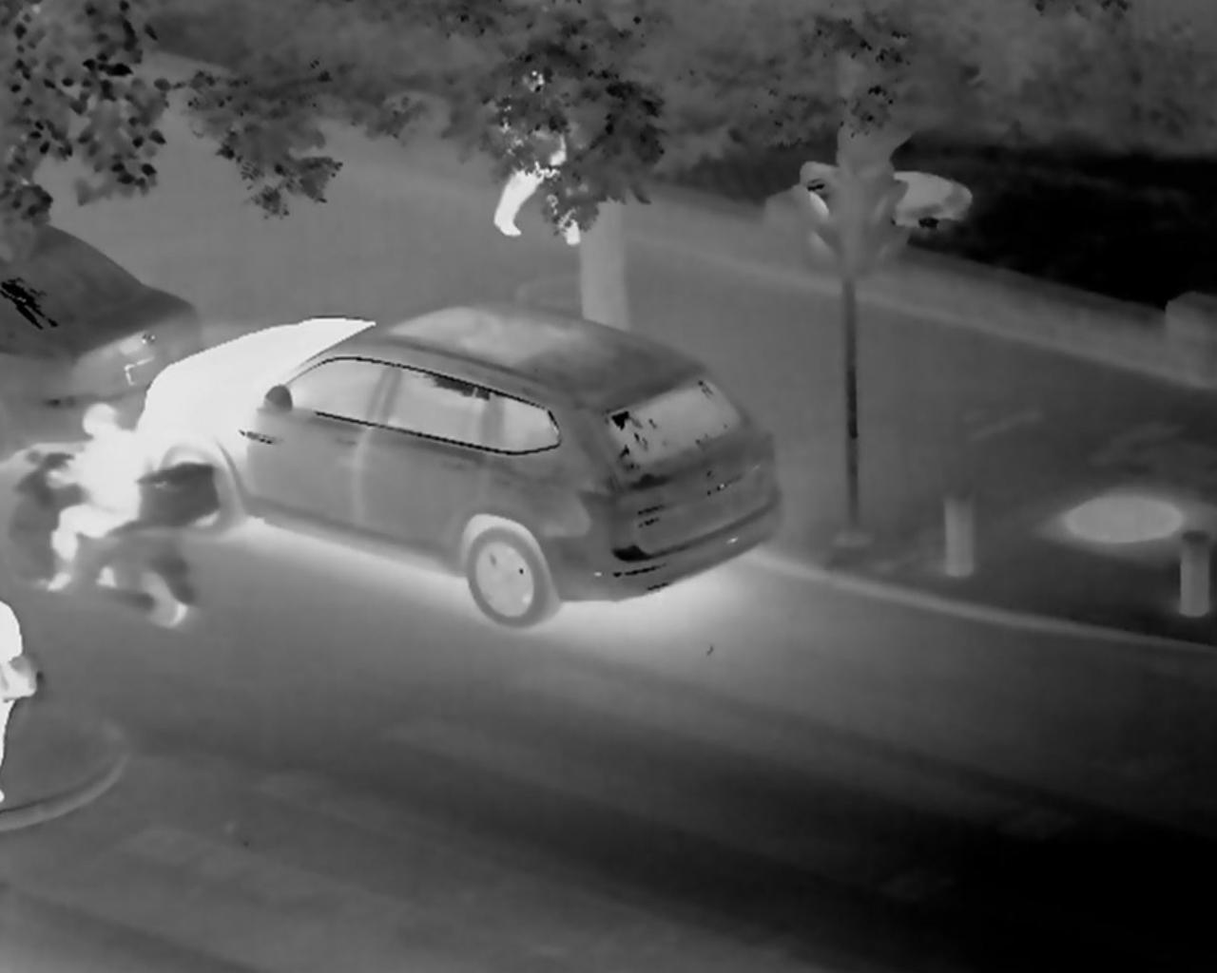person: (49, 391, 184, 606), (488, 51, 607, 258)
